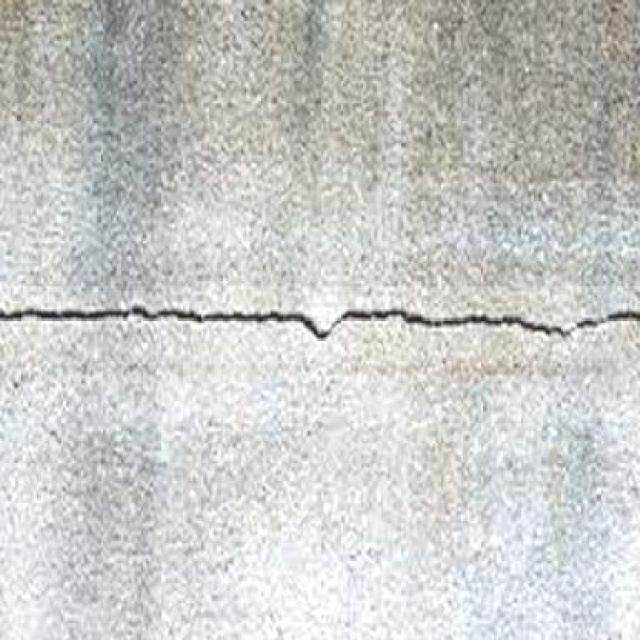Crack: (1, 283, 640, 367)
